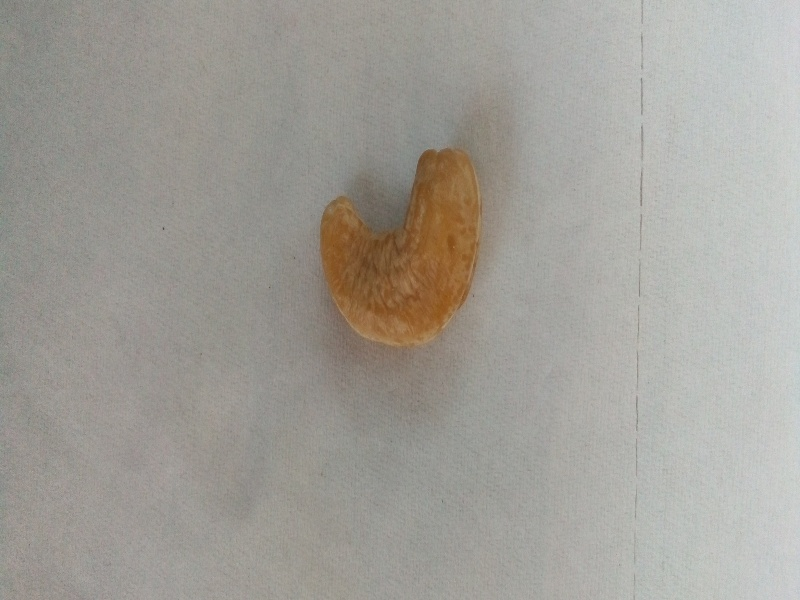cashew: (292, 105, 517, 368)
